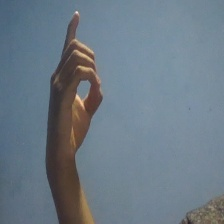D: (41, 9, 106, 157)
